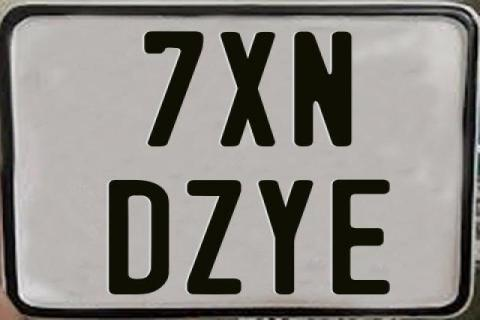0: (141, 29, 204, 144)
D: (108, 178, 170, 294)
E: (330, 180, 393, 298)
N: (291, 29, 355, 145)
X: (217, 32, 273, 146)
Y: (255, 178, 314, 294)
Z: (185, 178, 239, 294)
